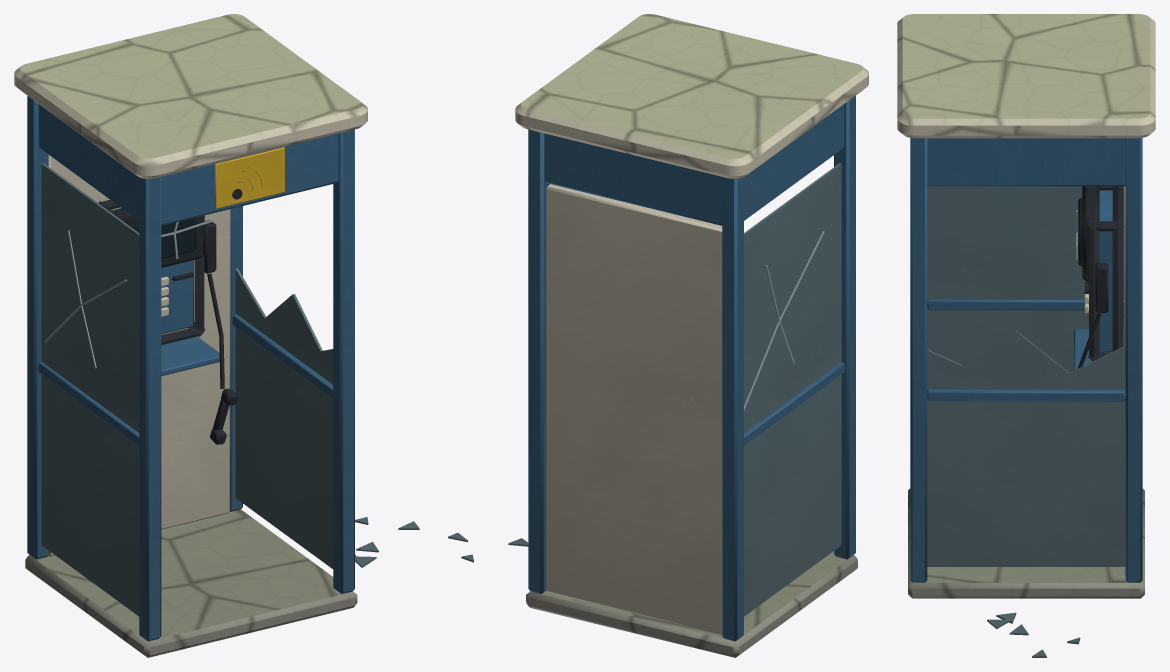
File: phone_booth.glb
3 views of the same model, side by side, from view 1: azimuth 30°, elevation 25°; view 2: azimuth 150°, elevation 25°; view 3: azimuth 270°, elevation 25° (orthographic). The views are drawn at different scales.
Visible parts, largest first — view 1: phone_booth; view 2: phone_booth; view 3: phone_booth.
Boxes of the visible parts, x1,y1,x2,y2 form: phone_booth: [14, 14, 419, 657]; phone_booth: [448, 14, 868, 657]; phone_booth: [897, 14, 1155, 657].
Bounding box in the file's own units: 1.8 × 2.48 × 1.2.
Materials: 12 (12 with a texture image).
